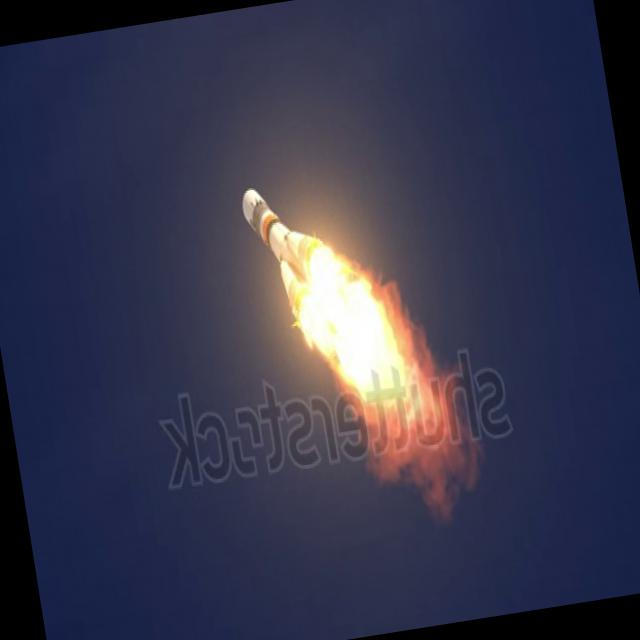rocket: (240, 173, 412, 426)
